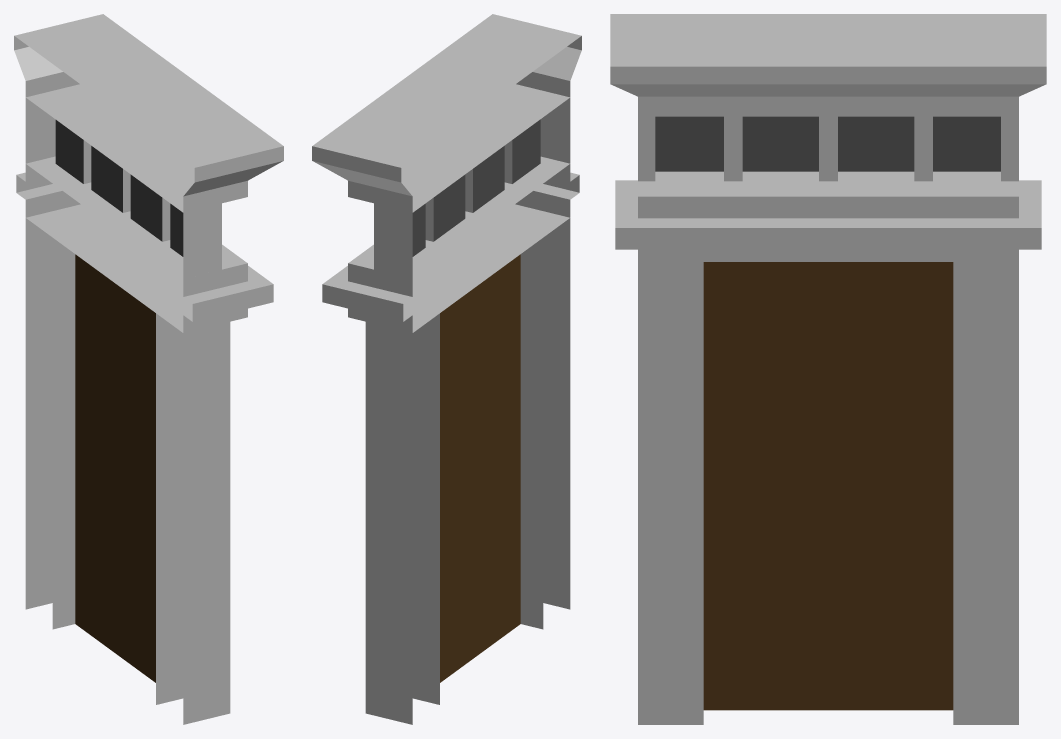
Rendered from Door1.fbx.
3 renders of one model, left to right at view 1: azimuth 30°, elevation 25°; view 2: azimuth 150°, elevation 25°; view 3: azimuth 270°, elevation 25°, orthographic. The views are drawn at different scales.
Visible parts, largest first — view 1: door1_combined; view 2: door1_combined; view 3: door1_combined.
Boxes of the visible parts, x1,y1,x2,y2 form: door1_combined: [14, 14, 283, 724]; door1_combined: [312, 14, 581, 724]; door1_combined: [610, 14, 1046, 724].
Bounding box in the file's own units: 0.4762 × 2.89 × 1.67.
